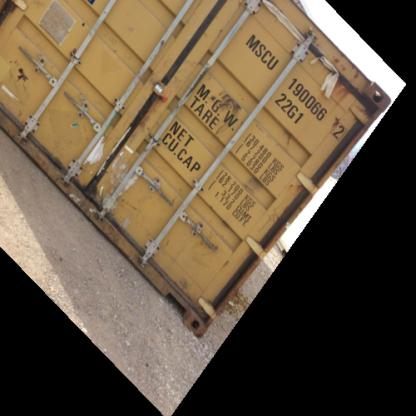Damage: (80, 125, 147, 215), (162, 233, 236, 293), (326, 72, 380, 134), (3, 32, 40, 118), (204, 88, 246, 134), (272, 176, 306, 214), (97, 18, 133, 50), (272, 116, 302, 151)
